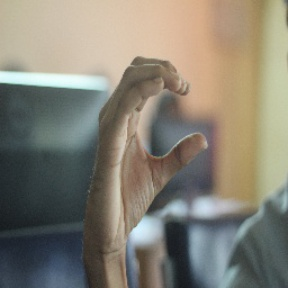C: (108, 53, 214, 179)
